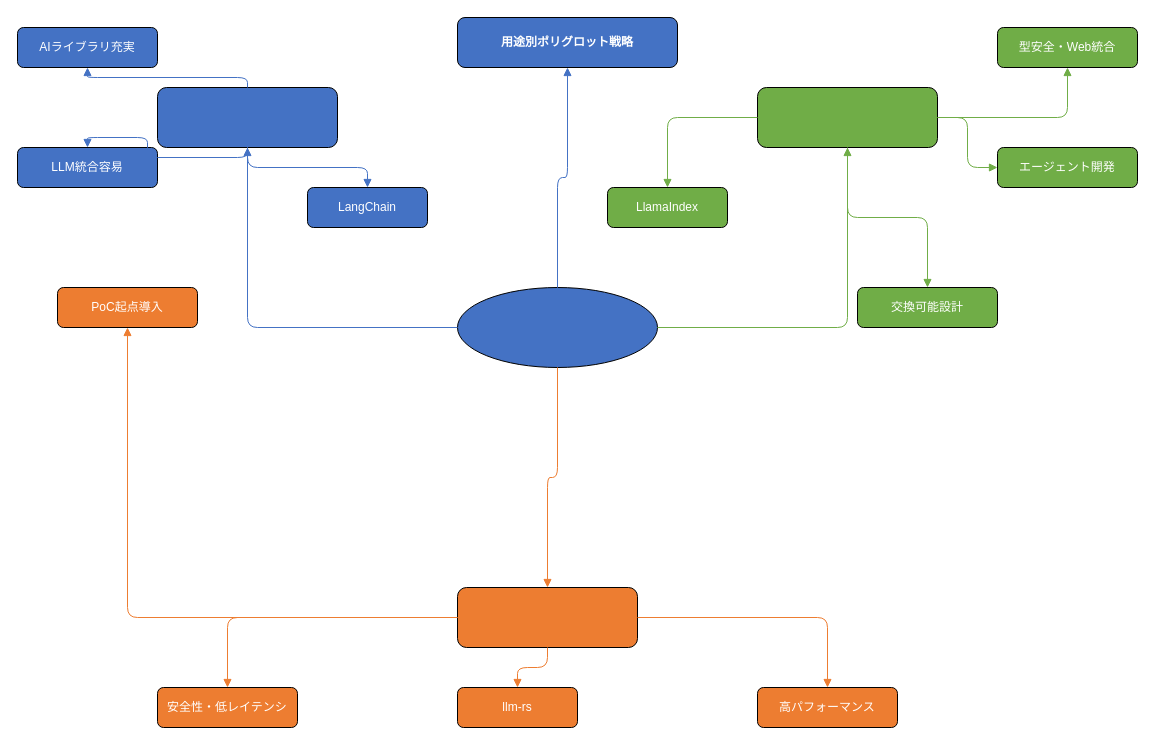
Some shapes in this 1155 by 745 pixel diagram are drawn without their labels. Here are the shapes that lost their labels. From the top down, the box of each, then its label:
(156, 86, 338, 148): Python（AIコア）
(756, 86, 938, 148): TypeScript（統合/UI）
(456, 286, 658, 368): AI時代の開発言語
(456, 586, 638, 648): Rust（高負荷/インフラ）
